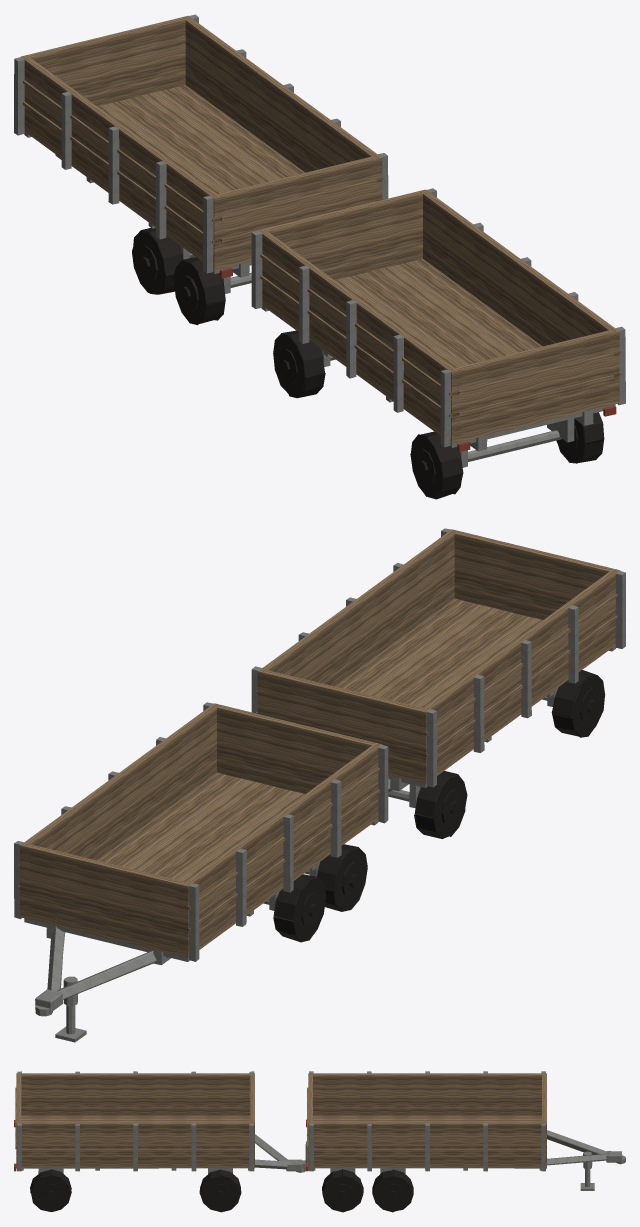
Rendered from double_trailer.glb.
The picture shows the model from 3 angles, top to bottom: view 1: azimuth 30°, elevation 25°; view 2: azimuth 150°, elevation 25°; view 3: azimuth 270°, elevation 25°; orthographic projection. The views are drawn at different scales.
Parts seen in each view (by area): view 1: DoubleTrailer, Tailgate2, Tailgate, Wheel_L3, Wheel_L4, Wheel_L2, Wheel_L1, Wheel_R4; view 2: DoubleTrailer, Tailgate2, Tailgate, Wheel_L3, Wheel_L1, Wheel_L4, Wheel_L2; view 3: DoubleTrailer, Wheel_R2, Wheel_R4, Wheel_R3, Wheel_R1, Tailgate2, Tailgate, Coupler.
Part boxes in pixels (x1,y1,x2,y2): DoubleTrailer: (14, 14, 625, 467); Tailgate2: (455, 330, 612, 435); Tailgate: (217, 156, 375, 261); Wheel_L3: (273, 330, 325, 398); Wheel_L4: (410, 431, 463, 499); Wheel_L2: (172, 257, 225, 325); Wheel_L1: (132, 228, 183, 294); Wheel_R4: (556, 412, 604, 463); DoubleTrailer: (14, 528, 625, 1042); Tailgate2: (454, 531, 612, 619); Tailgate: (217, 705, 375, 793); Wheel_L3: (414, 771, 467, 838); Wheel_L1: (273, 874, 326, 942); Wheel_L4: (551, 670, 605, 737); Wheel_L2: (317, 844, 367, 911); DoubleTrailer: (14, 1071, 609, 1190); Wheel_R2: (322, 1169, 363, 1212); Wheel_R4: (30, 1169, 71, 1211); Wheel_R3: (199, 1169, 241, 1212); Wheel_R1: (372, 1169, 413, 1212); Tailgate2: (16, 1075, 21, 1121); Tailgate: (308, 1075, 312, 1121); Coupler: (606, 1151, 625, 1164).
Size of the model in its own units: 2.3 by 1.77 by 10.92.
Materials: 4 (3 with a texture image).
